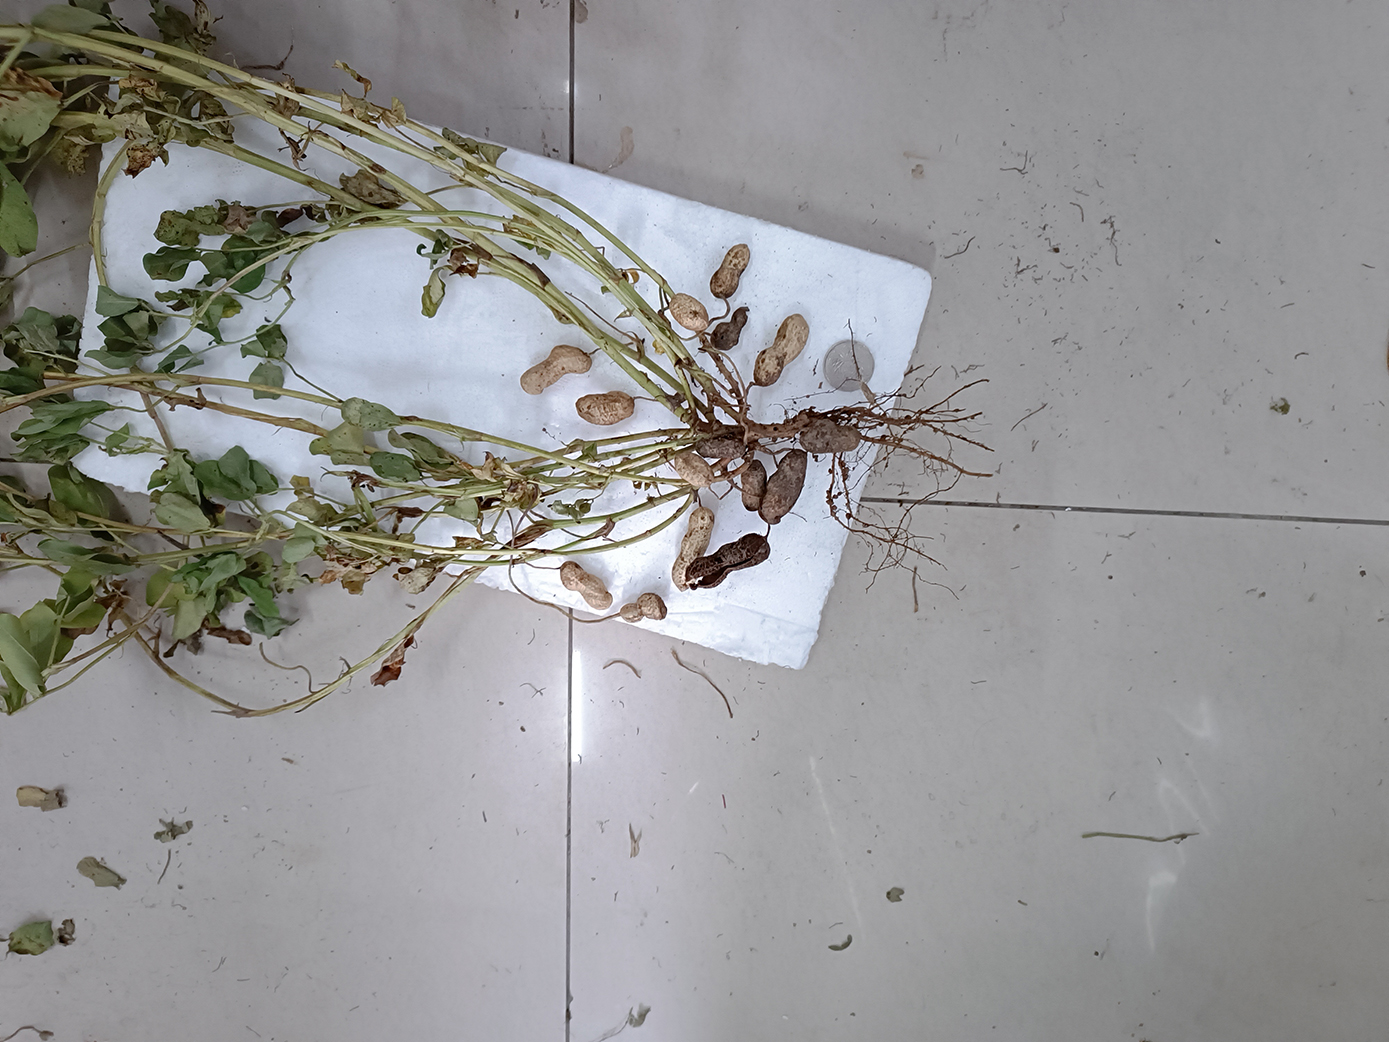h: (752, 313, 810, 387), (671, 506, 716, 592), (520, 344, 593, 394), (560, 560, 613, 610), (575, 390, 635, 424), (668, 292, 709, 332), (620, 592, 667, 624), (674, 451, 713, 487)
l: (685, 533, 772, 589), (761, 445, 807, 524), (710, 243, 751, 299), (801, 424, 861, 452), (711, 306, 749, 350), (696, 435, 748, 459), (742, 462, 766, 511)
